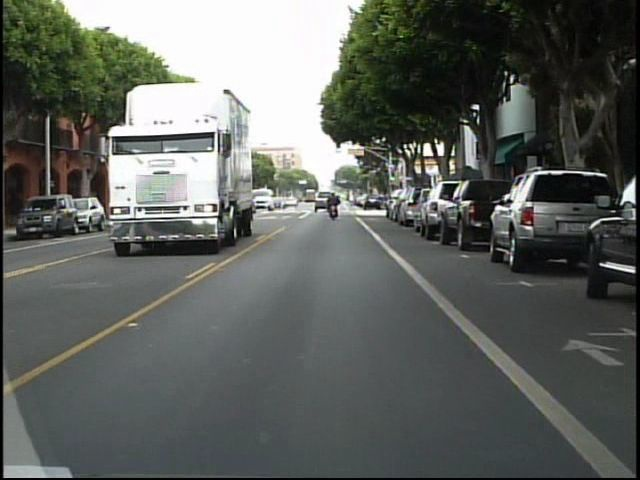person: (326, 192, 340, 223)
